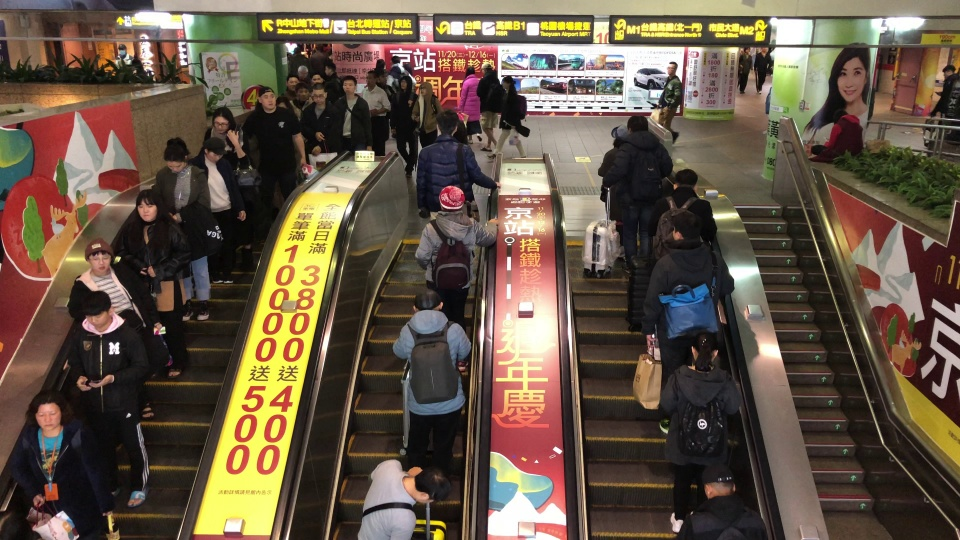person_head: (400, 464, 451, 506), (29, 392, 65, 431), (699, 464, 735, 499), (157, 136, 188, 172), (82, 291, 111, 329), (84, 238, 114, 274), (133, 189, 162, 223), (690, 329, 718, 364), (671, 211, 699, 242), (437, 185, 465, 214), (435, 108, 460, 137), (412, 289, 442, 313), (210, 107, 235, 134), (202, 136, 225, 162), (673, 168, 697, 192), (255, 87, 277, 110), (627, 114, 648, 133), (310, 83, 327, 105), (341, 74, 357, 93), (830, 109, 850, 124), (611, 124, 628, 141), (500, 75, 516, 93), (294, 82, 308, 99), (418, 82, 433, 97), (398, 76, 412, 90), (364, 71, 376, 87), (479, 63, 493, 76), (665, 62, 678, 76), (941, 64, 955, 77), (375, 59, 387, 71), (463, 66, 475, 78), (117, 43, 127, 57), (315, 43, 324, 53), (292, 47, 301, 56), (742, 46, 751, 55), (391, 55, 400, 63), (759, 46, 767, 53)
person_vbox: (650, 211, 737, 431), (66, 291, 152, 509), (392, 289, 471, 500), (113, 188, 196, 380), (414, 187, 499, 372), (667, 328, 742, 533), (72, 238, 154, 418), (16, 392, 106, 540), (148, 136, 213, 322), (198, 106, 260, 266), (414, 109, 500, 223), (605, 114, 673, 257), (187, 136, 245, 284), (241, 87, 306, 213), (362, 459, 452, 540), (676, 464, 770, 540), (648, 168, 718, 259), (486, 75, 532, 160), (647, 61, 687, 145), (331, 72, 372, 151), (389, 76, 421, 177), (807, 109, 864, 164), (598, 123, 629, 216), (358, 70, 391, 156), (476, 63, 506, 151), (302, 82, 335, 156), (386, 55, 417, 130), (410, 81, 441, 148), (457, 66, 483, 143), (927, 64, 957, 116), (753, 46, 772, 96), (288, 82, 311, 121), (737, 46, 754, 93), (310, 43, 333, 75), (114, 42, 136, 72), (288, 47, 311, 75)
